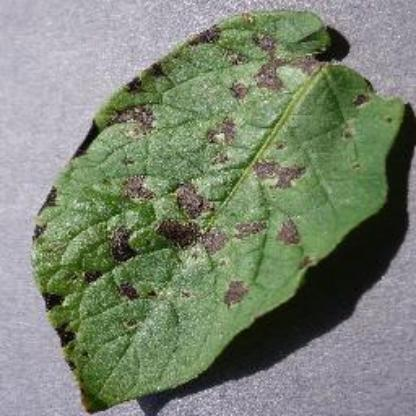Early-Blight: (30, 7, 416, 413)
